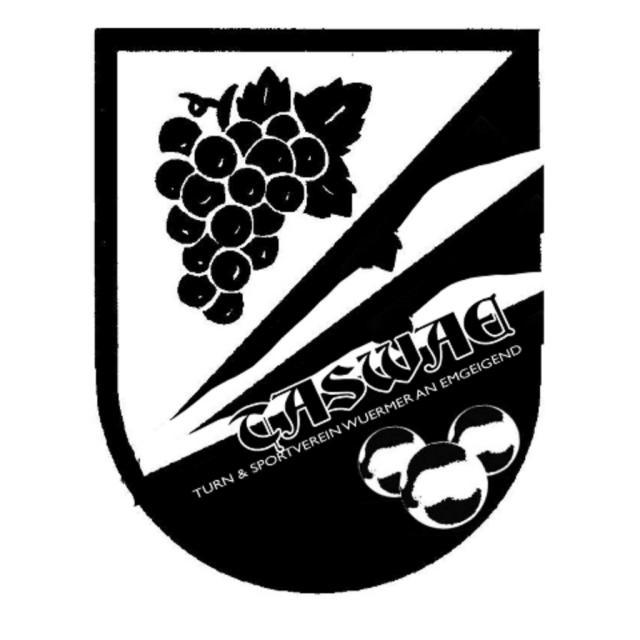Non_Gorille: (0, 0, 610, 640)
